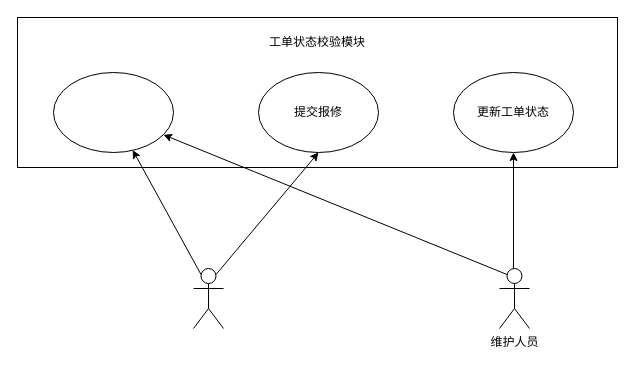
The diagram is 635 pixels wide and 367 high, and some of its shapes have lost their labels. Each missing label, with the centre of its shape:
"报修人" goes at pixel 208 298.
"查看设备" goes at pixel 113 112.
